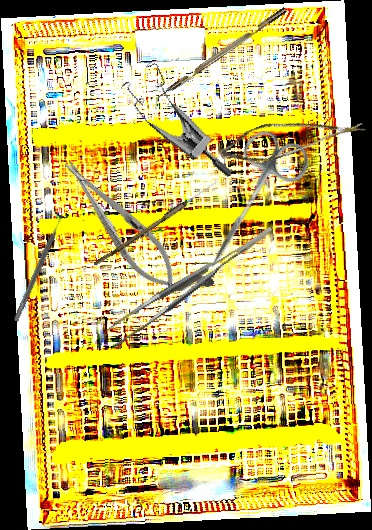Chopper: (148, 7, 292, 110)
Fixation Ring: (6, 207, 71, 325)
Iris Scissors: (185, 121, 316, 287)
Micro Scissor: (216, 89, 367, 184)
Needle Holder: (53, 149, 188, 300)
Speculum: (107, 54, 260, 179)
Surgical Spoon: (93, 178, 219, 269)
Tissue Forceps: (96, 226, 288, 348)
